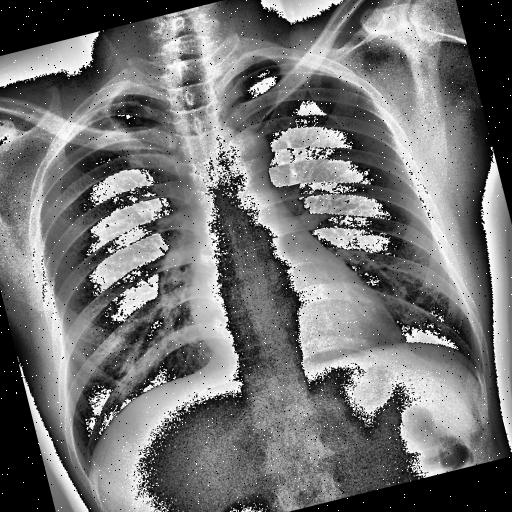11- Pleural thickening: (58, 86, 130, 142)
13- Pulmonary fibrosis: (80, 90, 160, 152), (86, 104, 148, 175)
6- Infiltration: (86, 104, 148, 175)
9- Other lesion: (74, 75, 172, 147)
